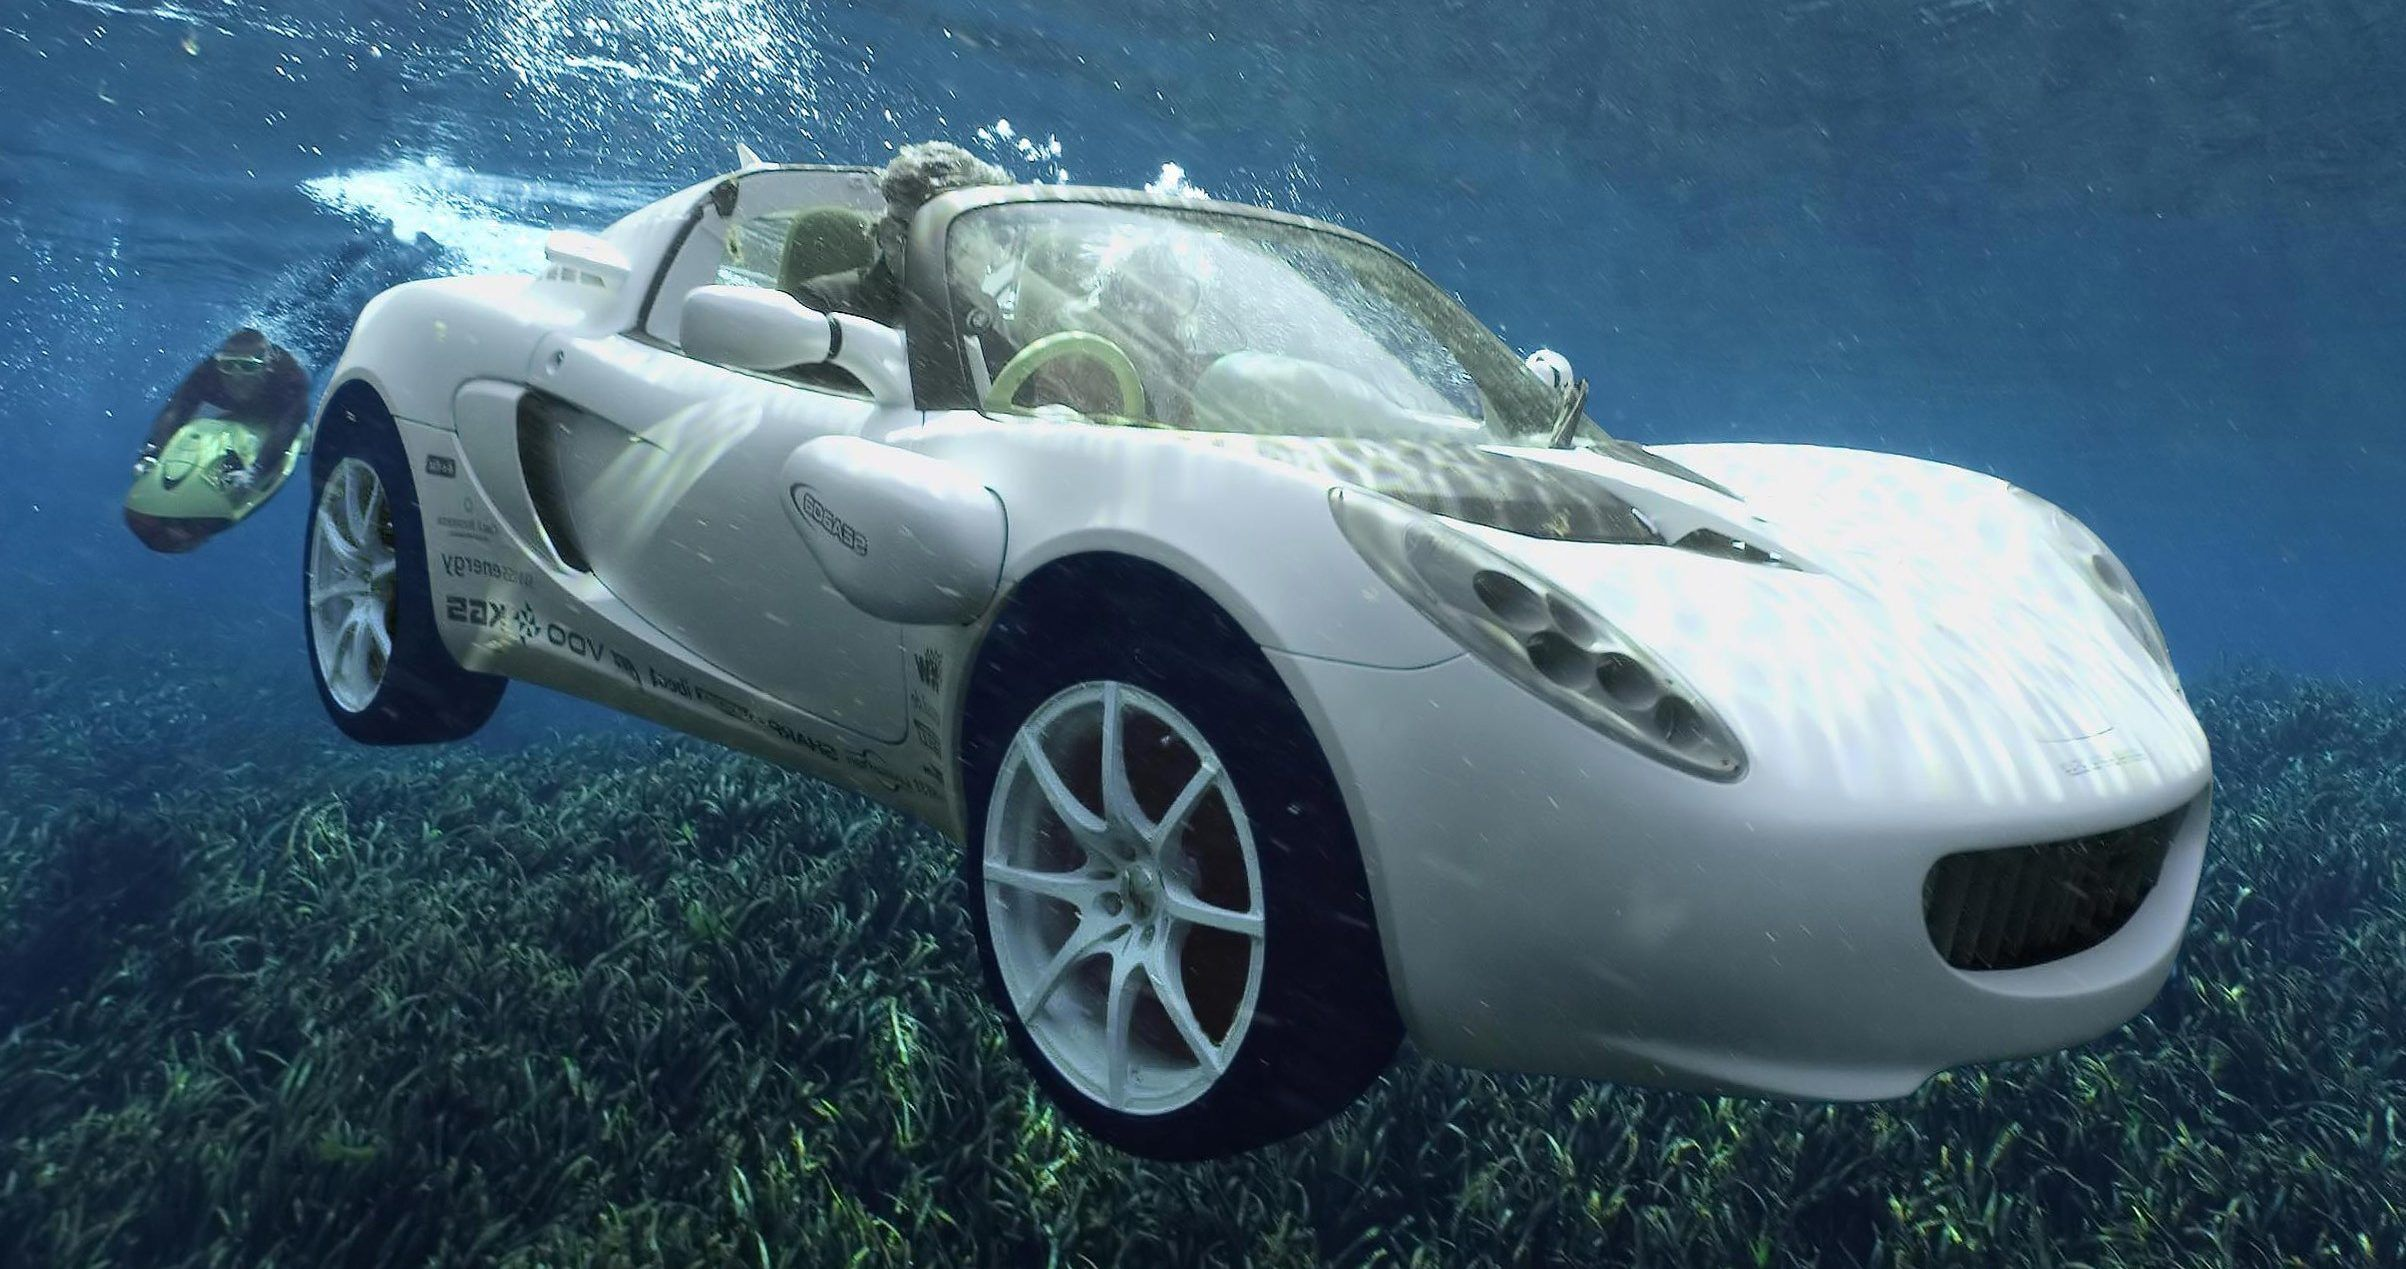headlight: (1345, 490, 1824, 766), (2035, 494, 2204, 674)
wheel: (915, 626, 1437, 1162), (272, 408, 535, 759)
